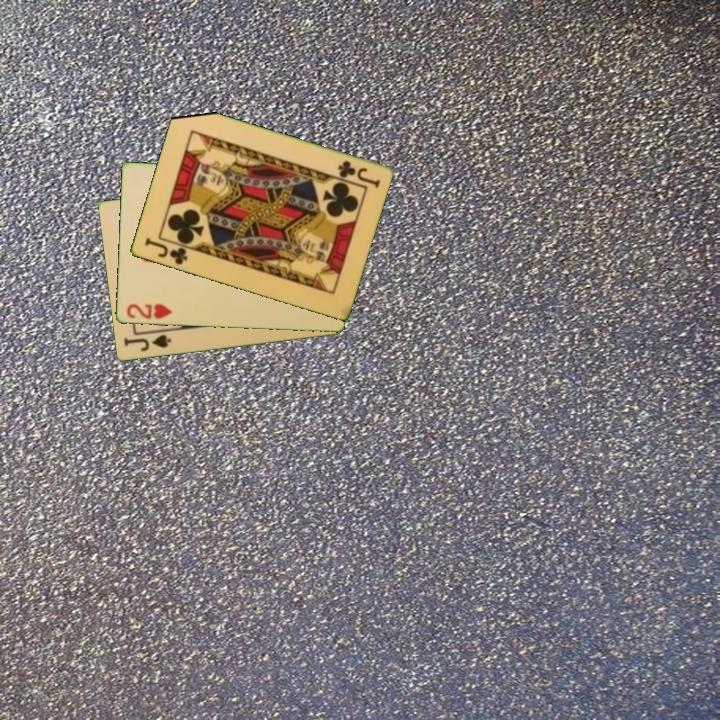2h: (123, 300, 175, 322)
Jc: (141, 234, 190, 268), (334, 157, 383, 190)
Js: (120, 331, 174, 355)
